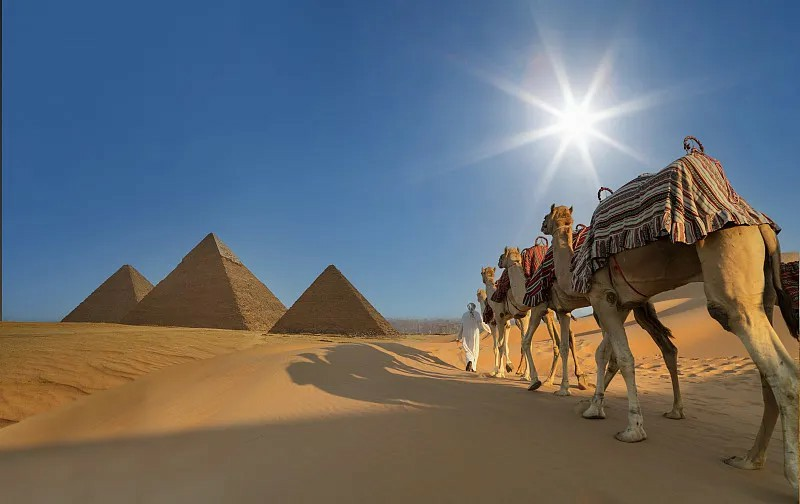Pyramid: (120, 232, 287, 331), (267, 266, 398, 338), (61, 266, 154, 326)
